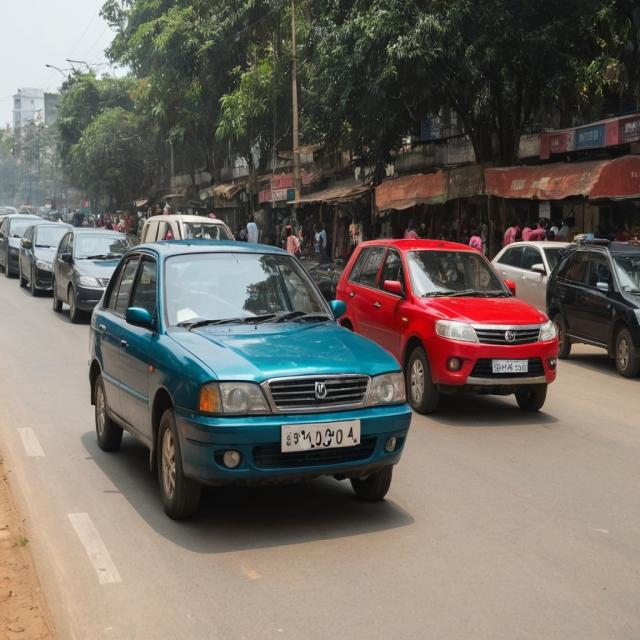black: (553, 240, 640, 382), (49, 230, 140, 320), (16, 225, 83, 298)
blue: (87, 246, 412, 538)
red: (330, 230, 559, 425)
silver: (482, 230, 580, 326)
